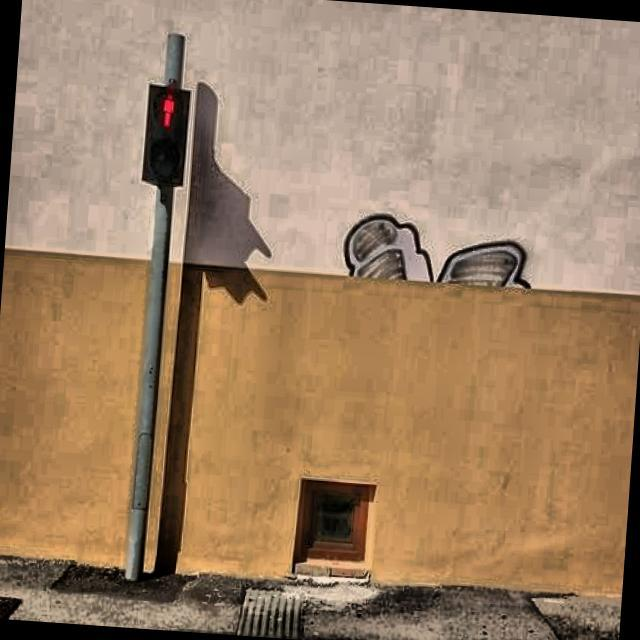red_light: (160, 91, 177, 129)
